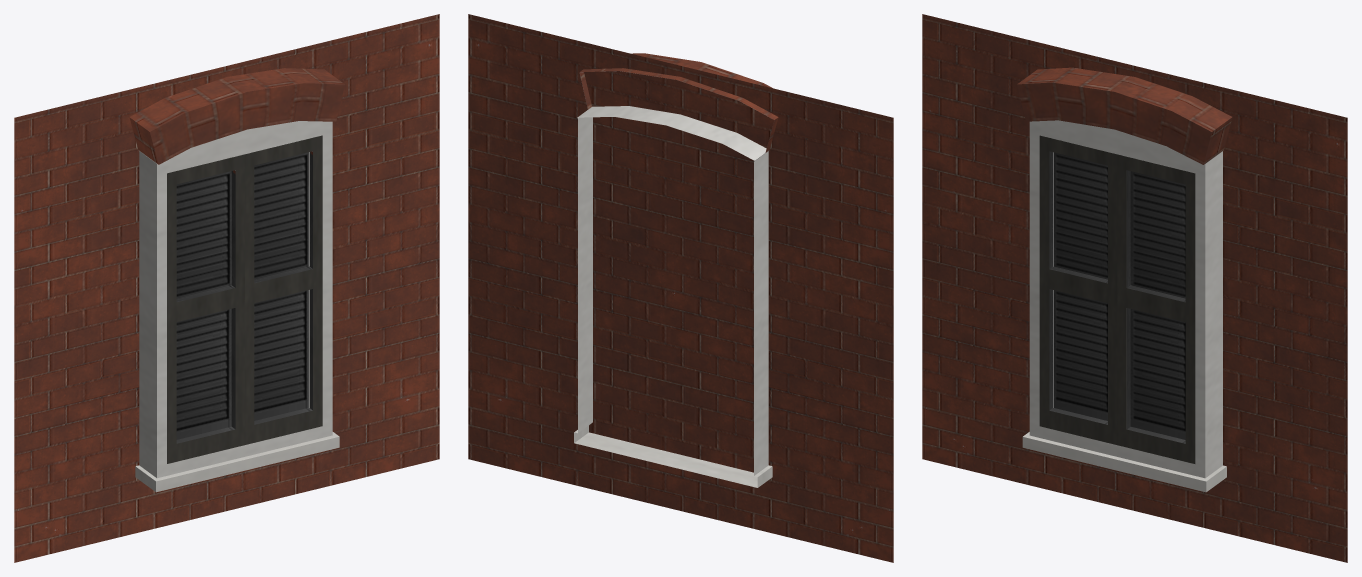
File: Brick_WINDOW_CLOSE_THREE.fbx
The picture shows the model from 3 angles, left to right: view 1: azimuth 30°, elevation 25°; view 2: azimuth 150°, elevation 25°; view 3: azimuth 330°, elevation 25°; orthographic projection.
Visible parts, largest first — view 1: Brick_WINDOW_CLOSE_TWO_BY_THREE2; view 2: Brick_WINDOW_CLOSE_TWO_BY_THREE2; view 3: Brick_WINDOW_CLOSE_TWO_BY_THREE2.
Boxes of the visible parts, x1,y1,x2,y2 form: Brick_WINDOW_CLOSE_TWO_BY_THREE2: (14, 14, 439, 562); Brick_WINDOW_CLOSE_TWO_BY_THREE2: (468, 14, 893, 562); Brick_WINDOW_CLOSE_TWO_BY_THREE2: (922, 14, 1347, 562).
Bounding box in the file's own units: 3 × 3 × 0.4351.
